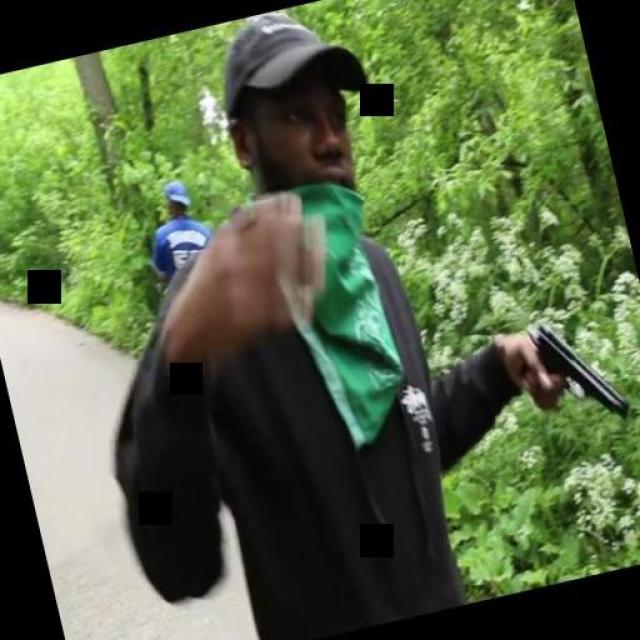gun: (510, 306, 631, 436)
